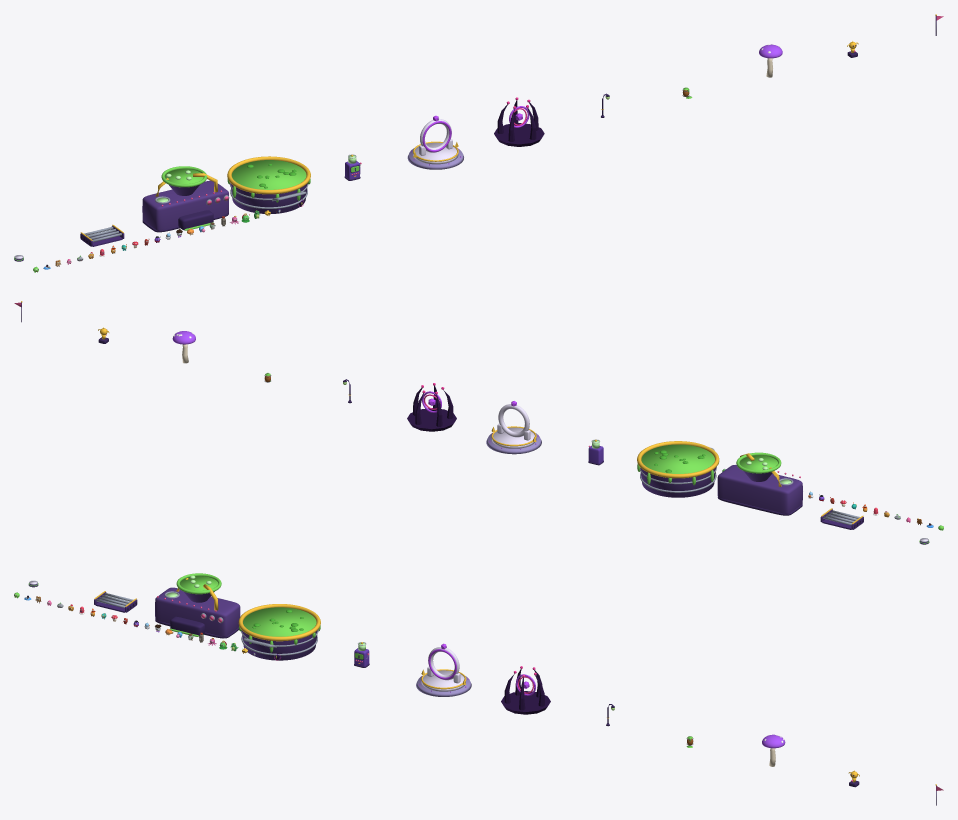
Rendered from SAG_AllAssets.fbx.
The picture shows the model from 3 angles, top to bottom: view 1: azimuth 30°, elevation 25°; view 2: azimuth 150°, elevation 25°; view 3: azimuth 330°, elevation 25°; orthographic projection.
Visible parts, largest first — view 1: P_Gusher__Body, P_SlopVat__Slop, P_ChaosRift__Rock, P_SlopVat__Tub, P_RebirthShrine__Stone, P_SlopVat__Rim, P_Gusher__Lime, P_Gusher__BodyDark; view 2: P_Gusher__Body, P_SlopVat__Slop, P_ChaosRift__Rock, P_SlopVat__Tub, P_RebirthShrine__Stone, P_SlopVat__Rim, P_Gusher__Lime; view 3: P_Gusher__Body, P_SlopVat__Slop, P_ChaosRift__Rock, P_SlopVat__Tub, P_RebirthShrine__Stone, P_SlopVat__Rim, P_Gusher__Lime, P_Gusher__BodyDark.
Boxes of the visible parts, x1,y1,x2,y2 form: P_Gusher__Body: [142, 180, 228, 230]; P_SlopVat__Slop: [227, 160, 310, 202]; P_ChaosRift__Rock: [494, 100, 544, 146]; P_SlopVat__Tub: [230, 183, 307, 213]; P_RebirthShrine__Stone: [413, 119, 458, 164]; P_SlopVat__Rim: [227, 156, 310, 194]; P_Gusher__Lime: [161, 166, 213, 230]; P_Gusher__BodyDark: [142, 210, 228, 232]; P_Gusher__Body: [717, 465, 802, 514]; P_SlopVat__Slop: [637, 444, 718, 485]; P_ChaosRift__Rock: [407, 385, 456, 431]; P_SlopVat__Tub: [640, 467, 716, 497]; P_RebirthShrine__Stone: [492, 404, 536, 448]; P_SlopVat__Rim: [637, 441, 719, 478]; P_Gusher__Lime: [736, 452, 781, 473]; P_Gusher__Body: [155, 587, 240, 636]; P_SlopVat__Slop: [238, 607, 320, 652]; P_ChaosRift__Rock: [501, 669, 550, 714]; P_SlopVat__Tub: [241, 630, 317, 660]; P_RebirthShrine__Stone: [421, 647, 465, 691]; P_SlopVat__Rim: [238, 604, 320, 641]; P_Gusher__Lime: [169, 573, 221, 636]; P_Gusher__BodyDark: [155, 616, 238, 638].
Bounding box in the file's own units: 379 × 17.38 × 31.63.
